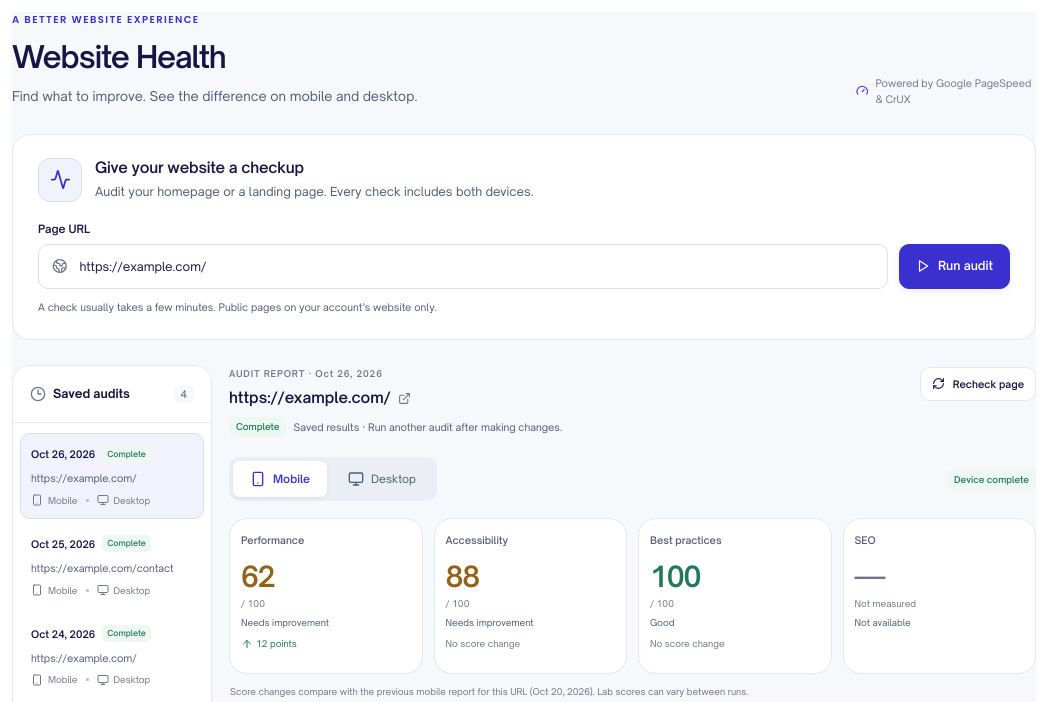
Test: Website Health reports › compares only the previous completed device report for the same URL
The image size is (1048, 702).
Expected: the element with class "health-score-change" reads "12 points", 256,638 -> 297,649
Step 1. Click the button "Desktop" → coordinates (382, 479), box 331,461 -> 433,497
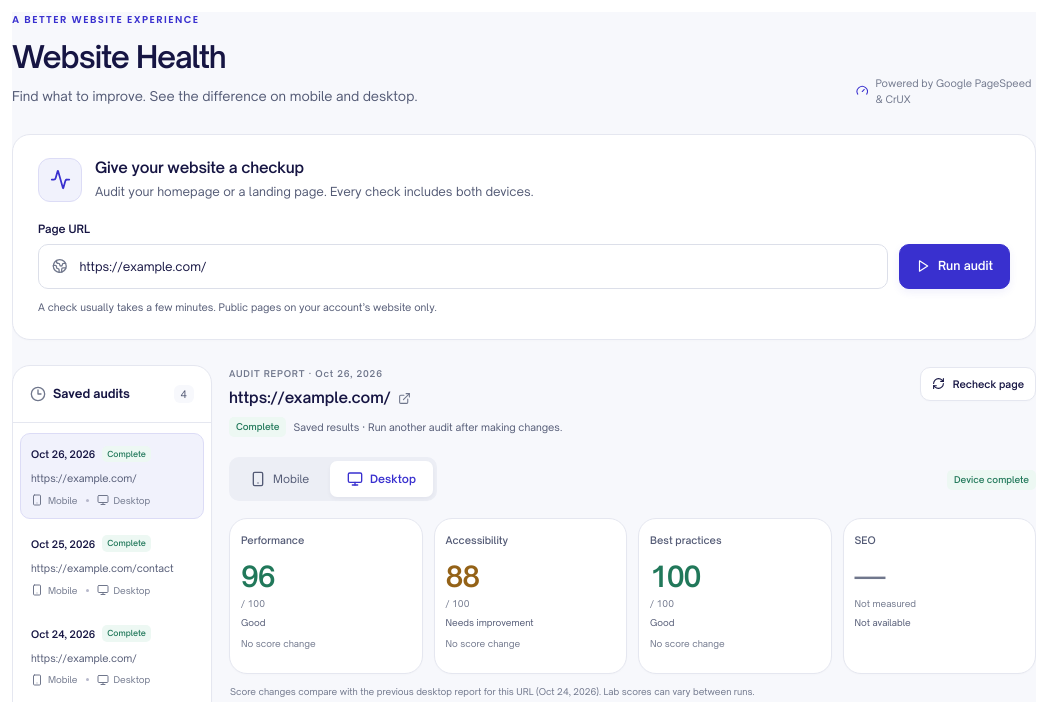
Result: the element with class "health-score-change" below "96" reads "No score change" at 241,638 -> 316,649
